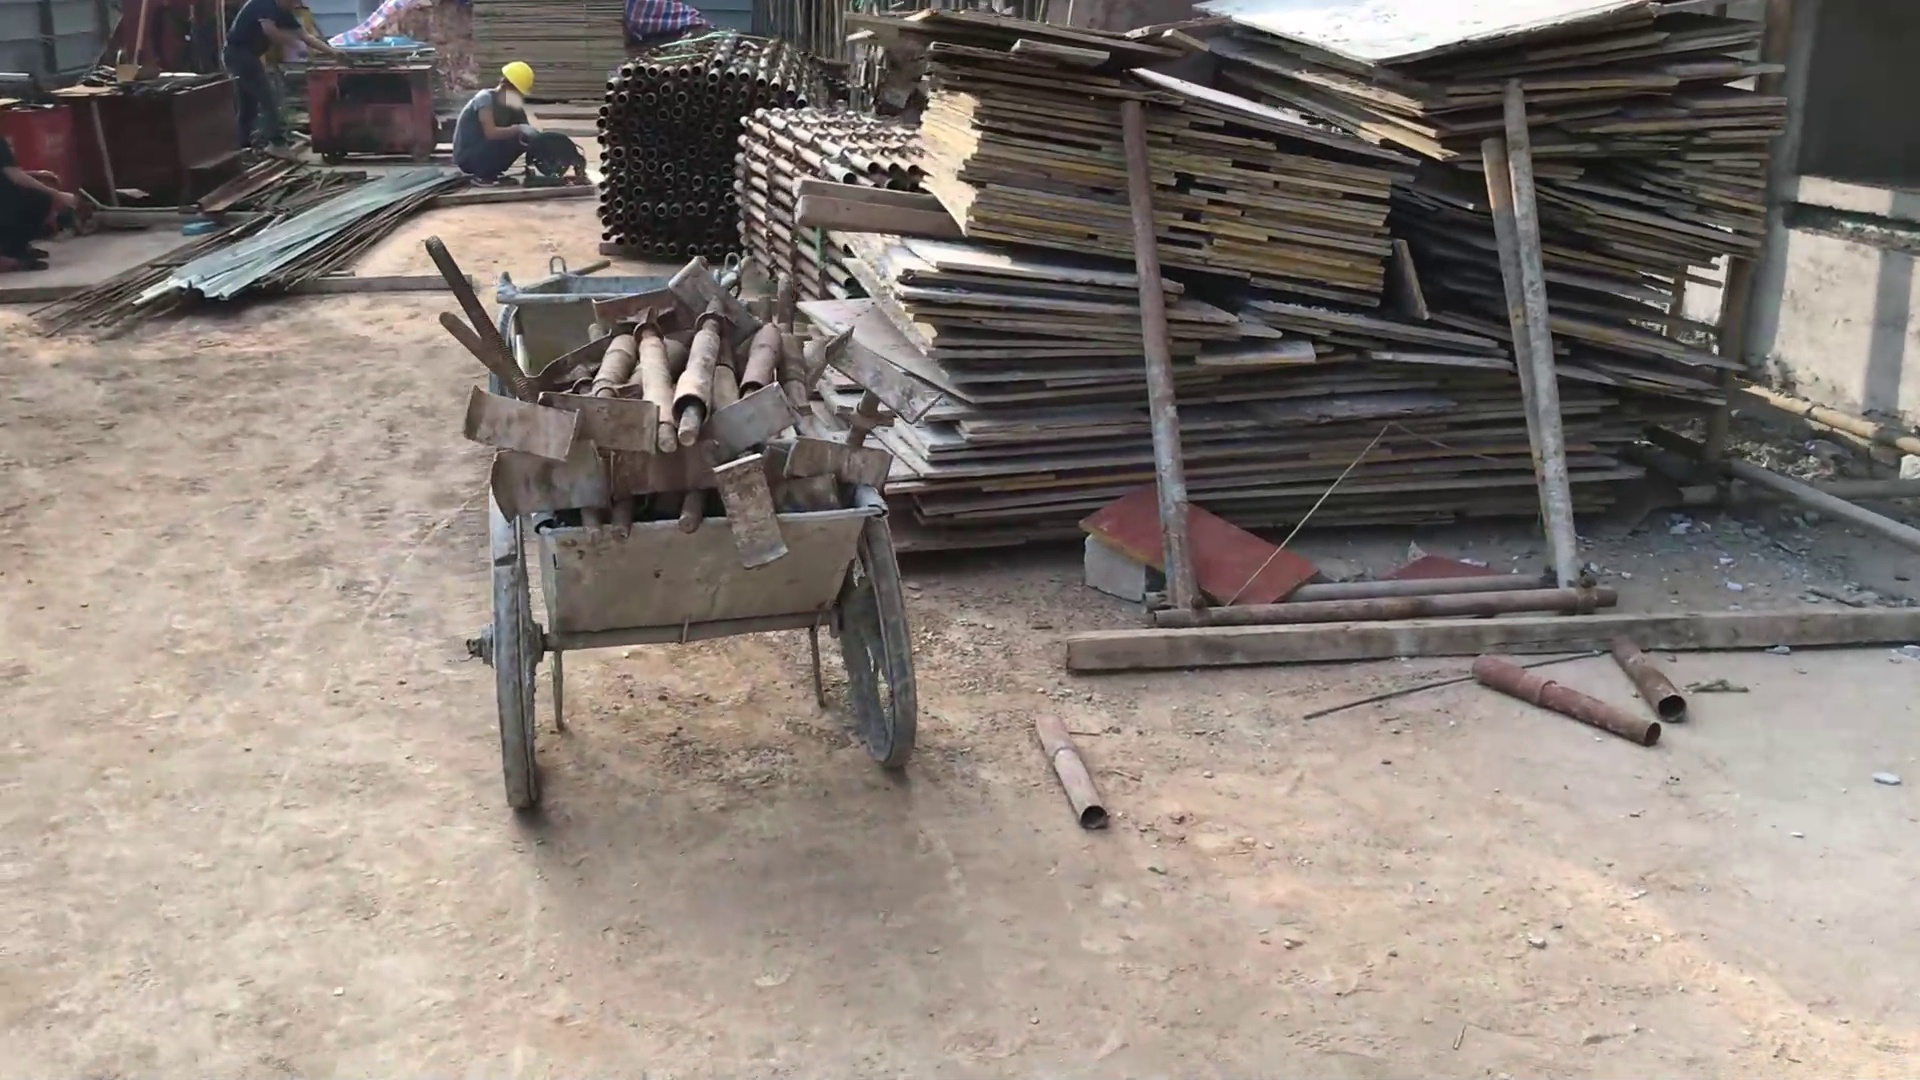board: (874, 1, 1786, 546), (467, 1, 629, 104)
cutter: (521, 126, 591, 190)
handcart: (460, 423, 921, 816), (495, 253, 755, 375)
helmet: (497, 57, 537, 100)
person: (220, 1, 347, 163), (450, 57, 543, 190), (1, 129, 83, 273)
rebar: (35, 163, 454, 330)
scaffold: (595, 29, 834, 258), (735, 100, 926, 304)
